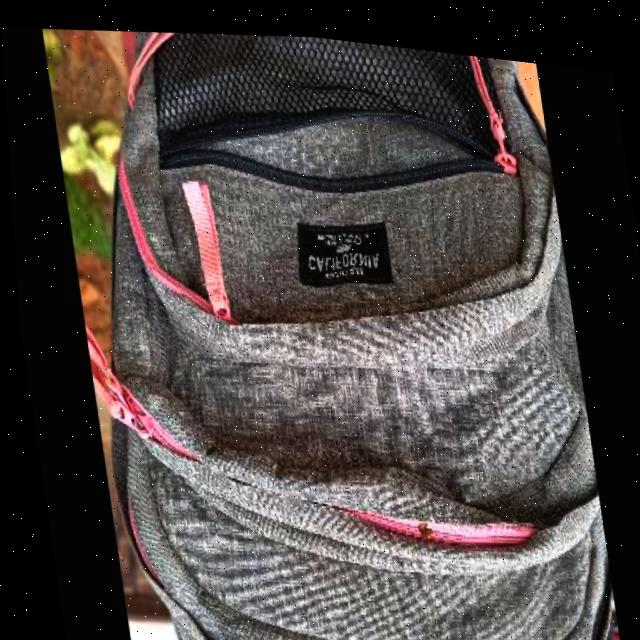canta: (37, 3, 617, 640)
